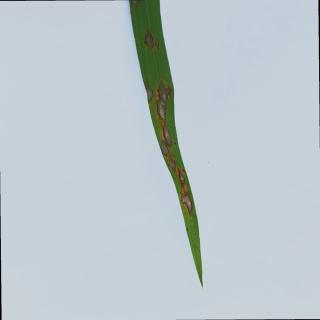Blast: (155, 80, 172, 124), (180, 192, 194, 216), (161, 124, 173, 147), (144, 82, 155, 105), (144, 31, 154, 51), (160, 141, 170, 157), (168, 155, 177, 172), (178, 168, 185, 186), (154, 38, 161, 50), (130, 0, 140, 8), (182, 168, 186, 174)
